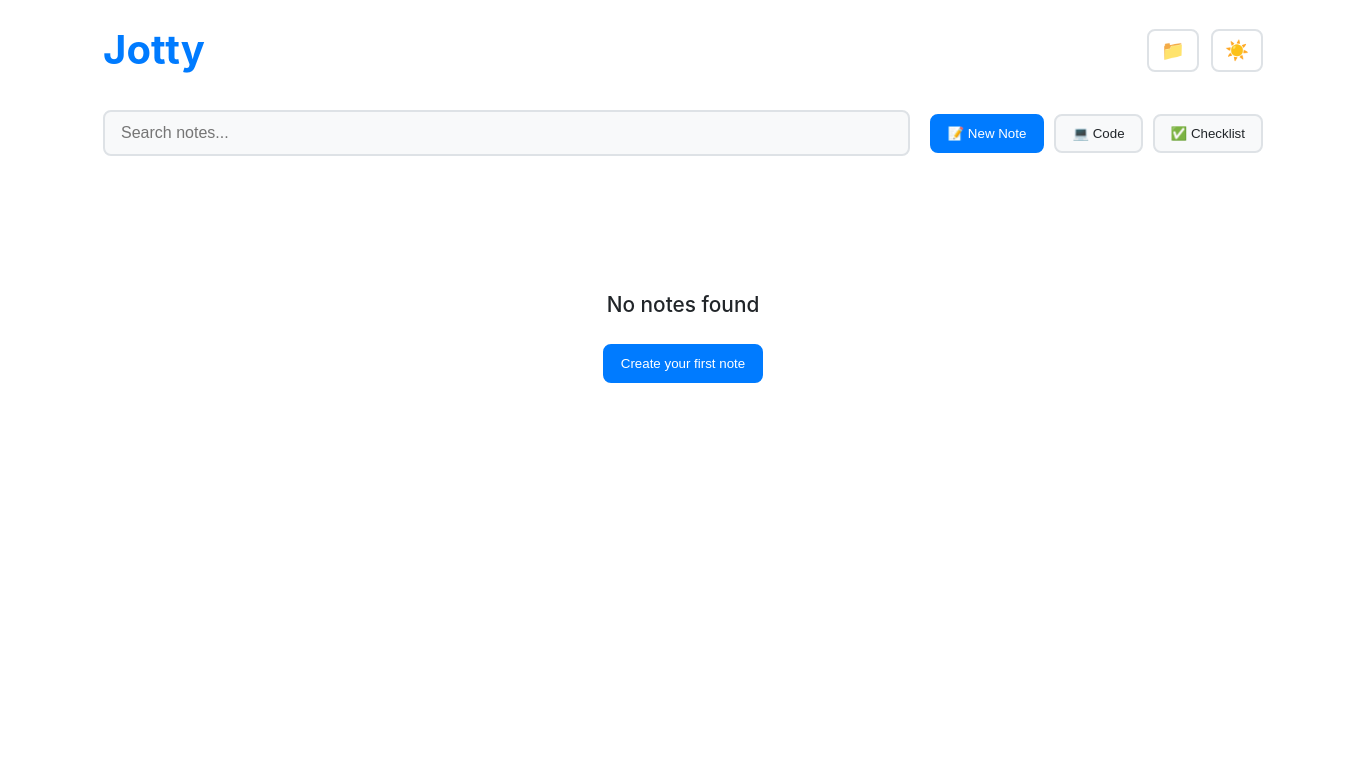
Test: Notes App Integration Tests › should create notes only when user adds meaningful content
# Create a new note
Click the button "📝 New Note" at [987, 133], box [930,114,1044,152]
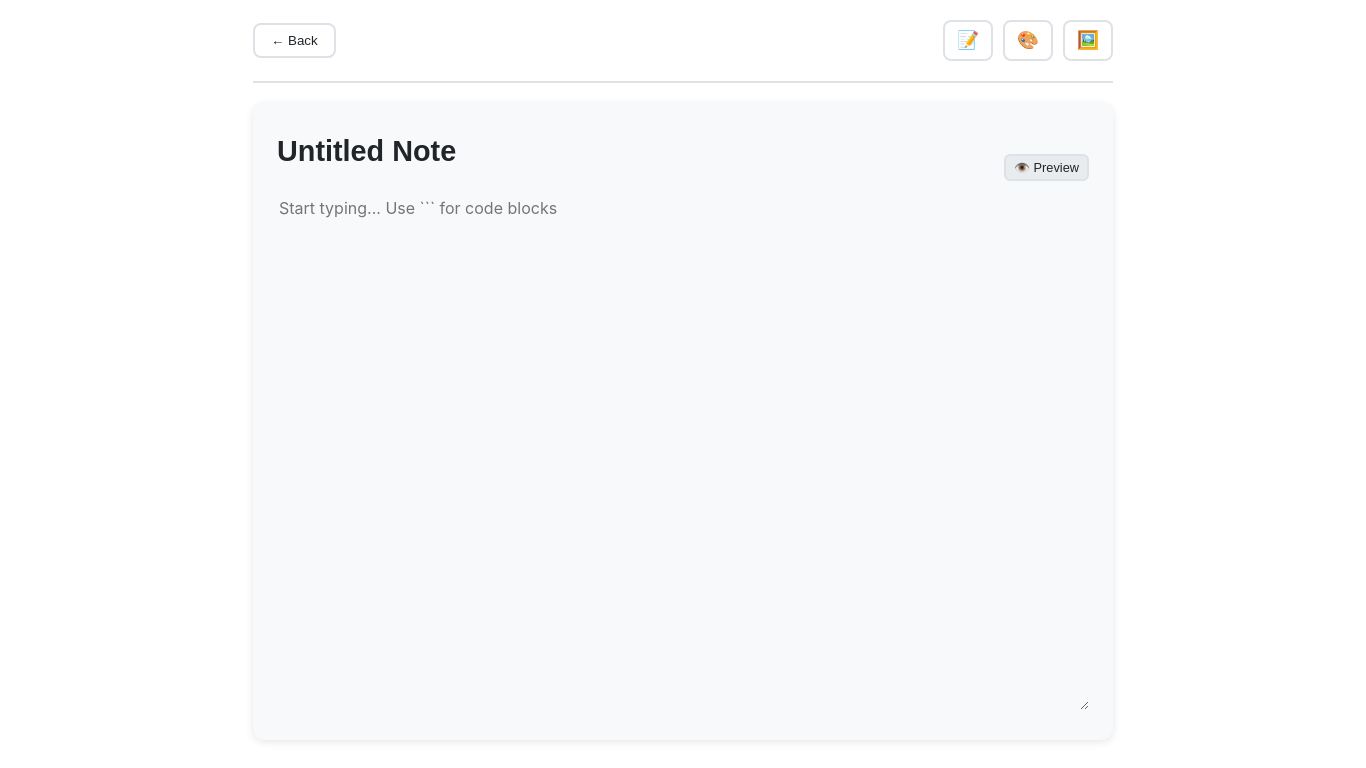
Check: the field showing "Untitled Note" is shown, box [277,127,1089,178]
# Add some content to trigger note creation
Type "This is actual content!" into the text box with placeholder "Start typing... Use ``` for code blocks" at [683, 452], box [277,194,1089,710]
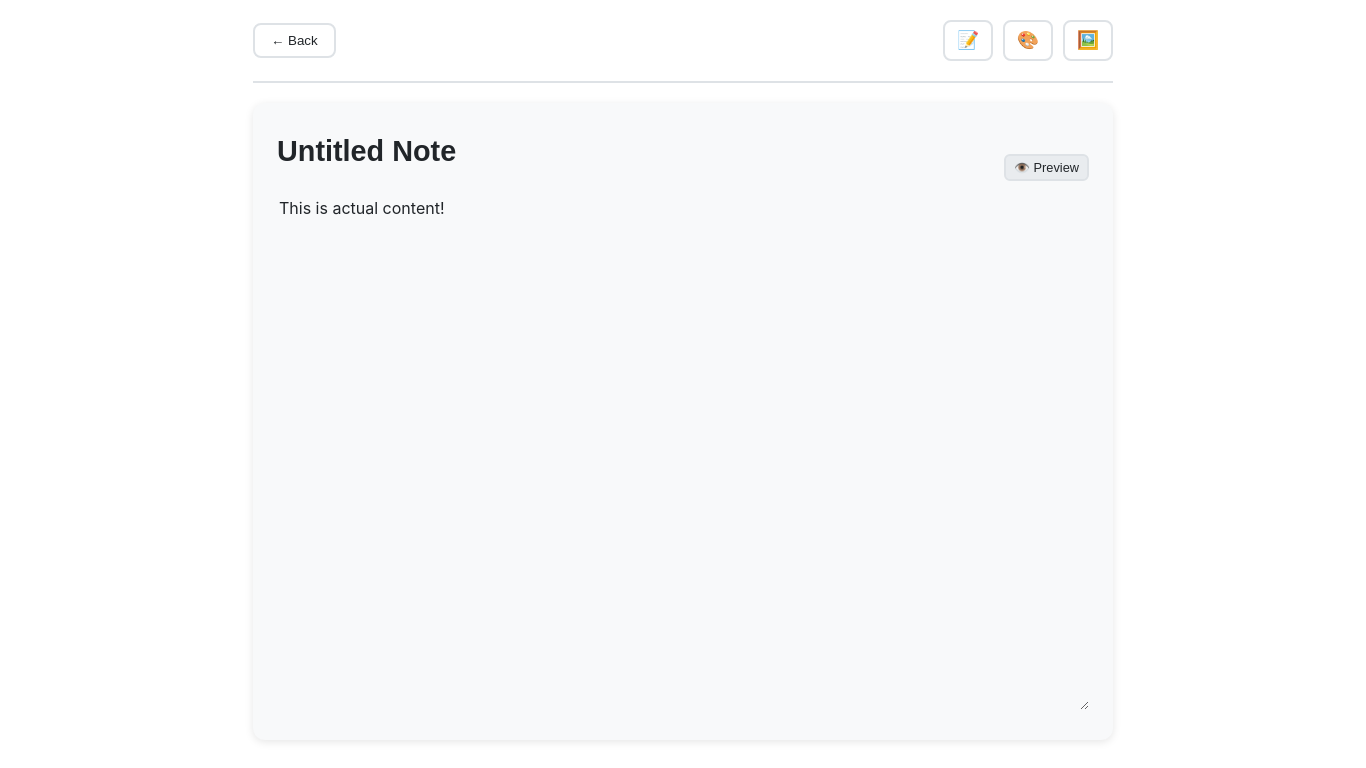
#  Go back
Click the button "← Back" at [294, 40], box [253,23,336,58]
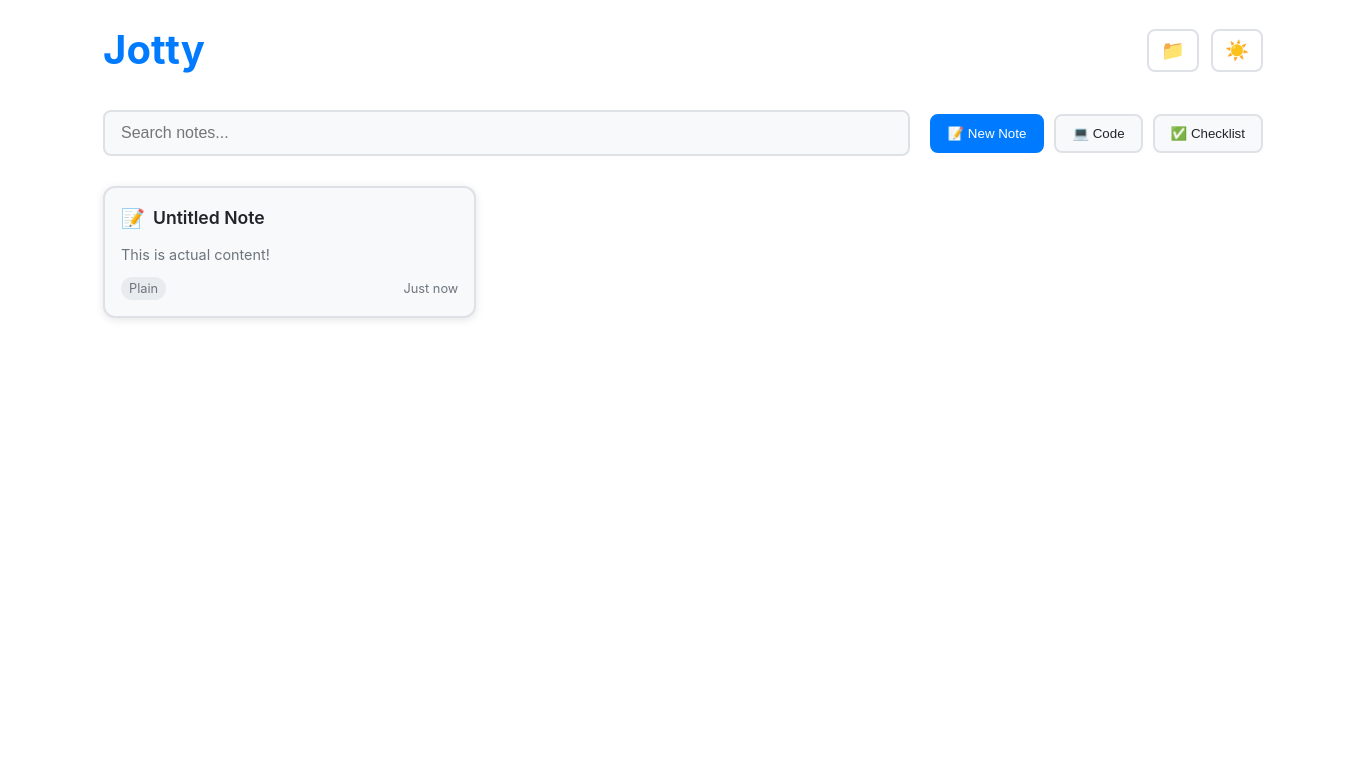
Check: the heading "Untitled Note" is shown, box [153,207,265,228]
Check: the text "This is actual content!" is shown, box [121,246,270,263]
